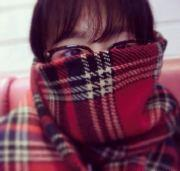OK: (50, 31, 150, 131)
